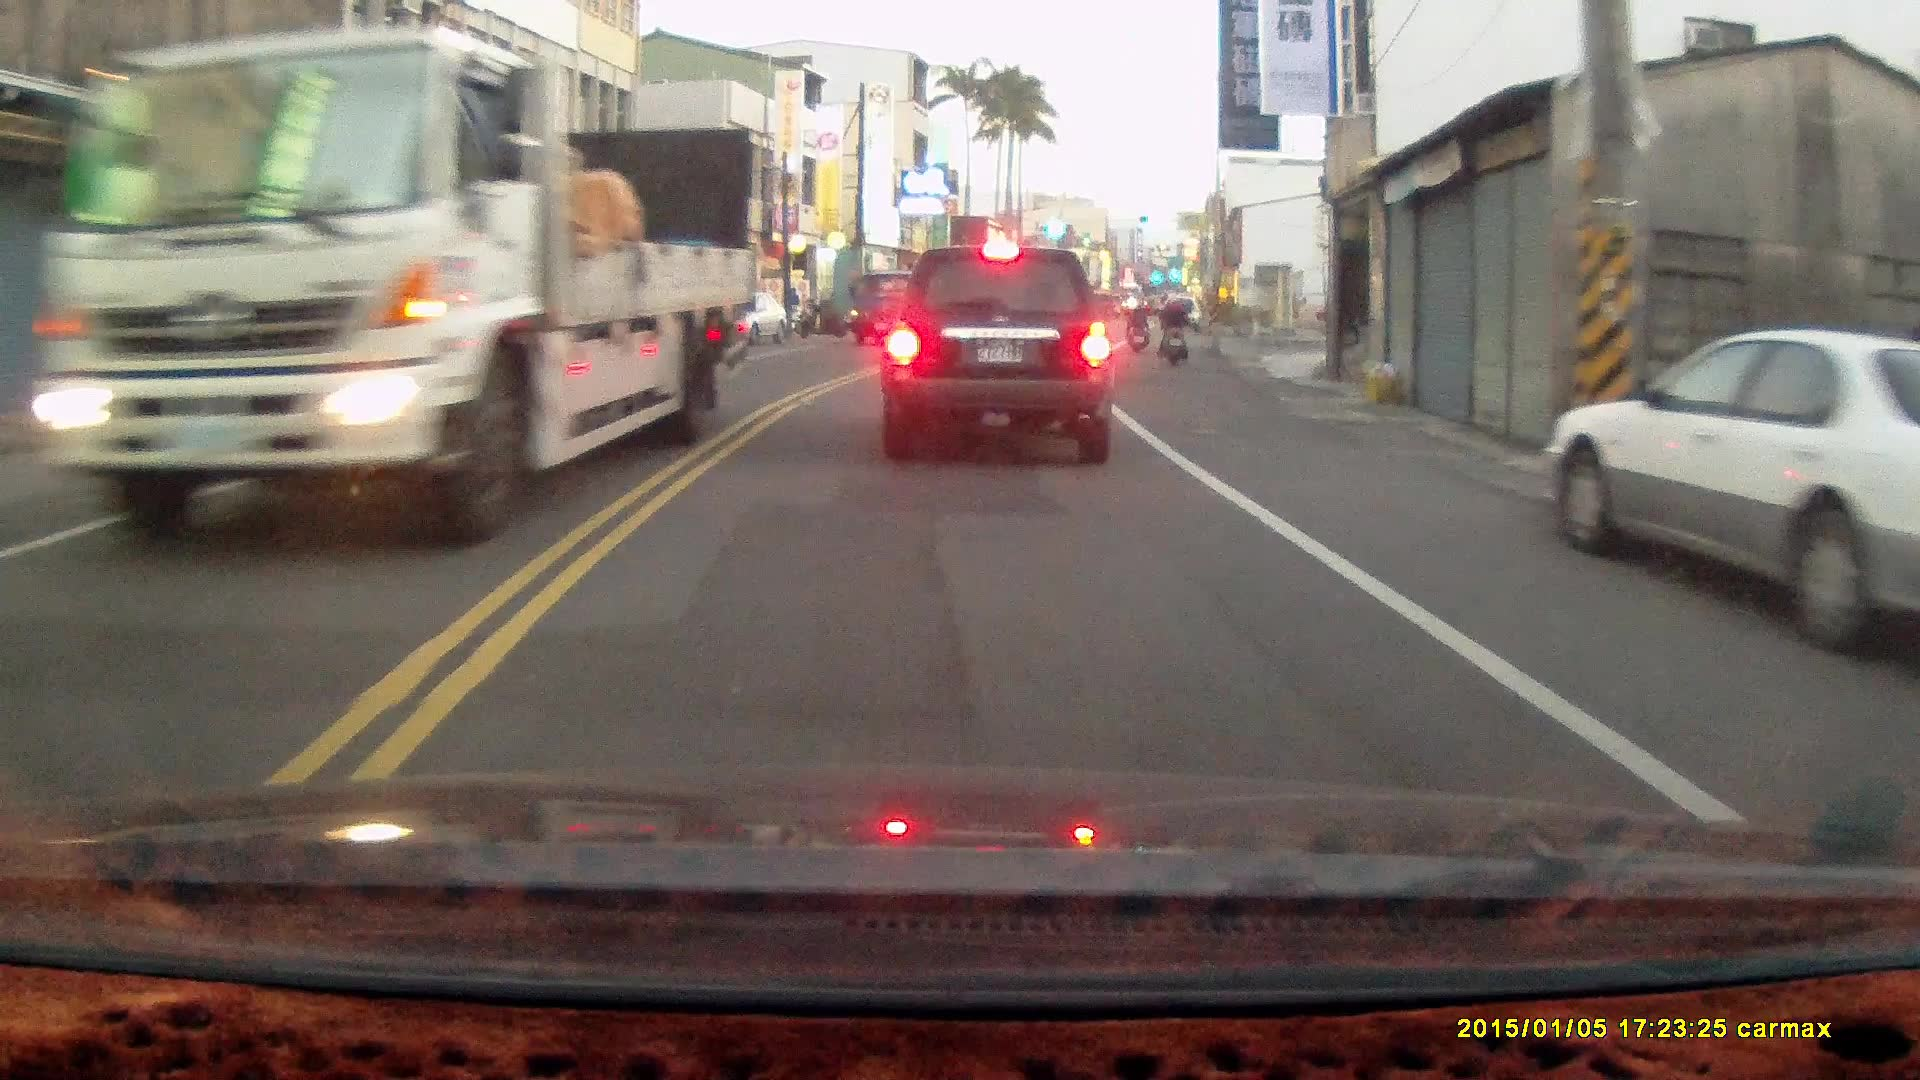rider: (1156, 289, 1187, 368), (1124, 299, 1149, 356)
vehicle: (26, 47, 761, 549), (1540, 327, 1920, 667), (878, 241, 1119, 464), (846, 270, 946, 349), (715, 290, 793, 347)
